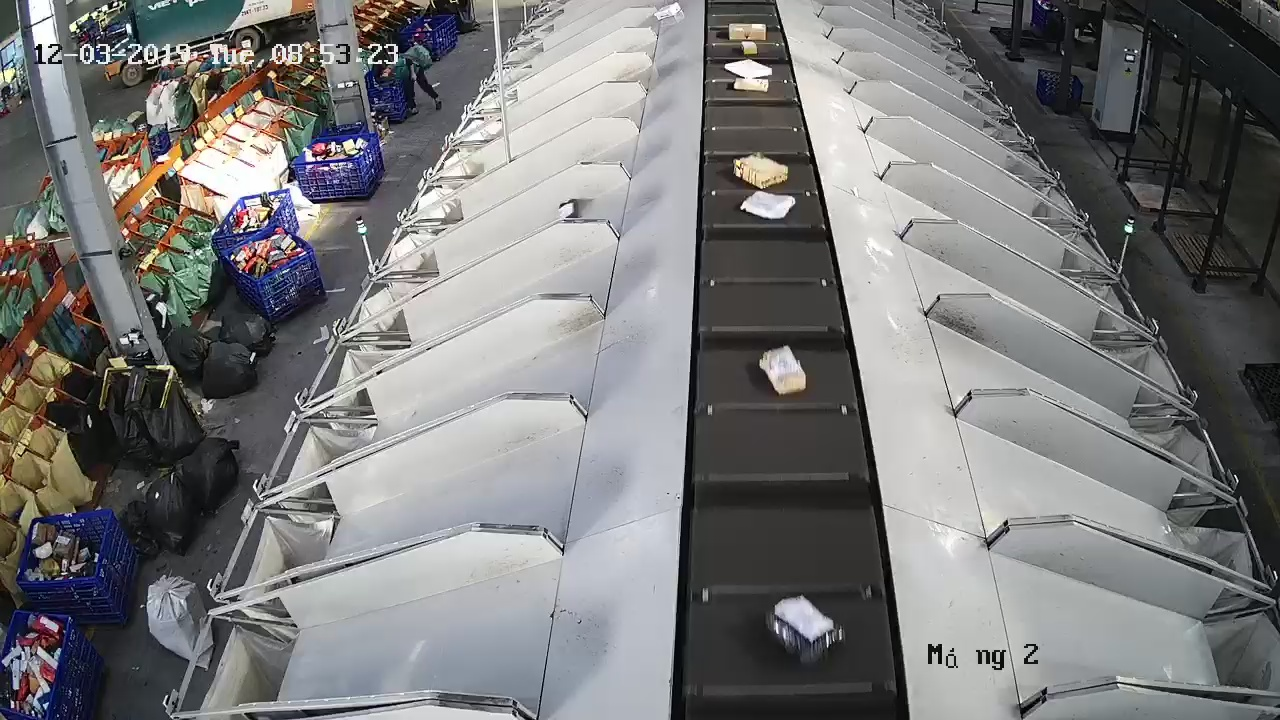parcel: (558, 198, 578, 220)
